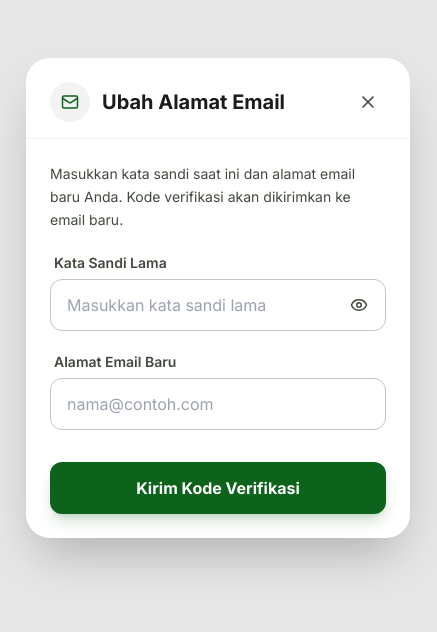
Test: TASK-0216 EmailChangeModal UI Test Suite › displays error message when candidate email is already in use (409 Conflict)
Type "Secret123!" into the password field with placeholder "Masukkan kata sandi lama" at (218, 305), box [50,279,386,331]
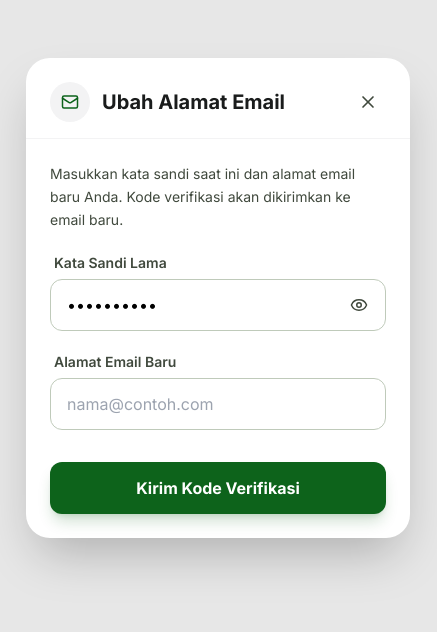
Type "taken@example.com" into the field with placeholder "nama@contoh.com" at (218, 404), box [50,378,386,430]
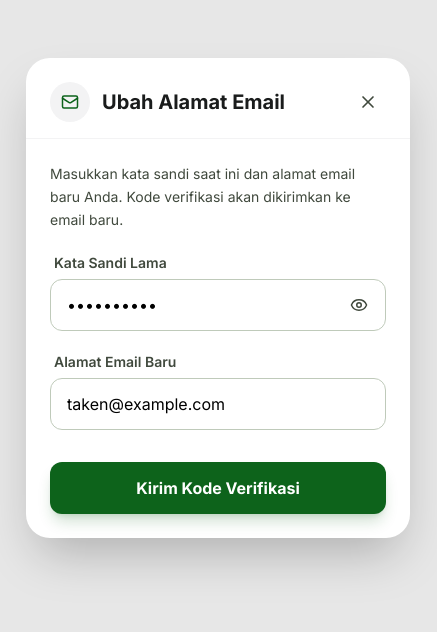
Click the button "Kirim Kode Verifikasi" at (218, 488), box [50,462,386,514]
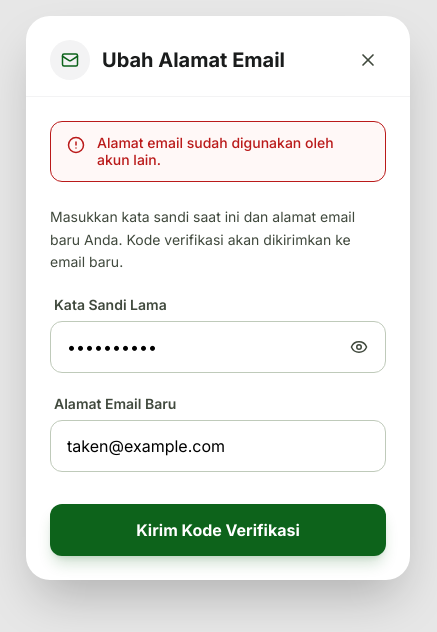
Check: the text "Alamat email sudah digunakan oleh akun lain." is shown, box [97,134,369,169]
